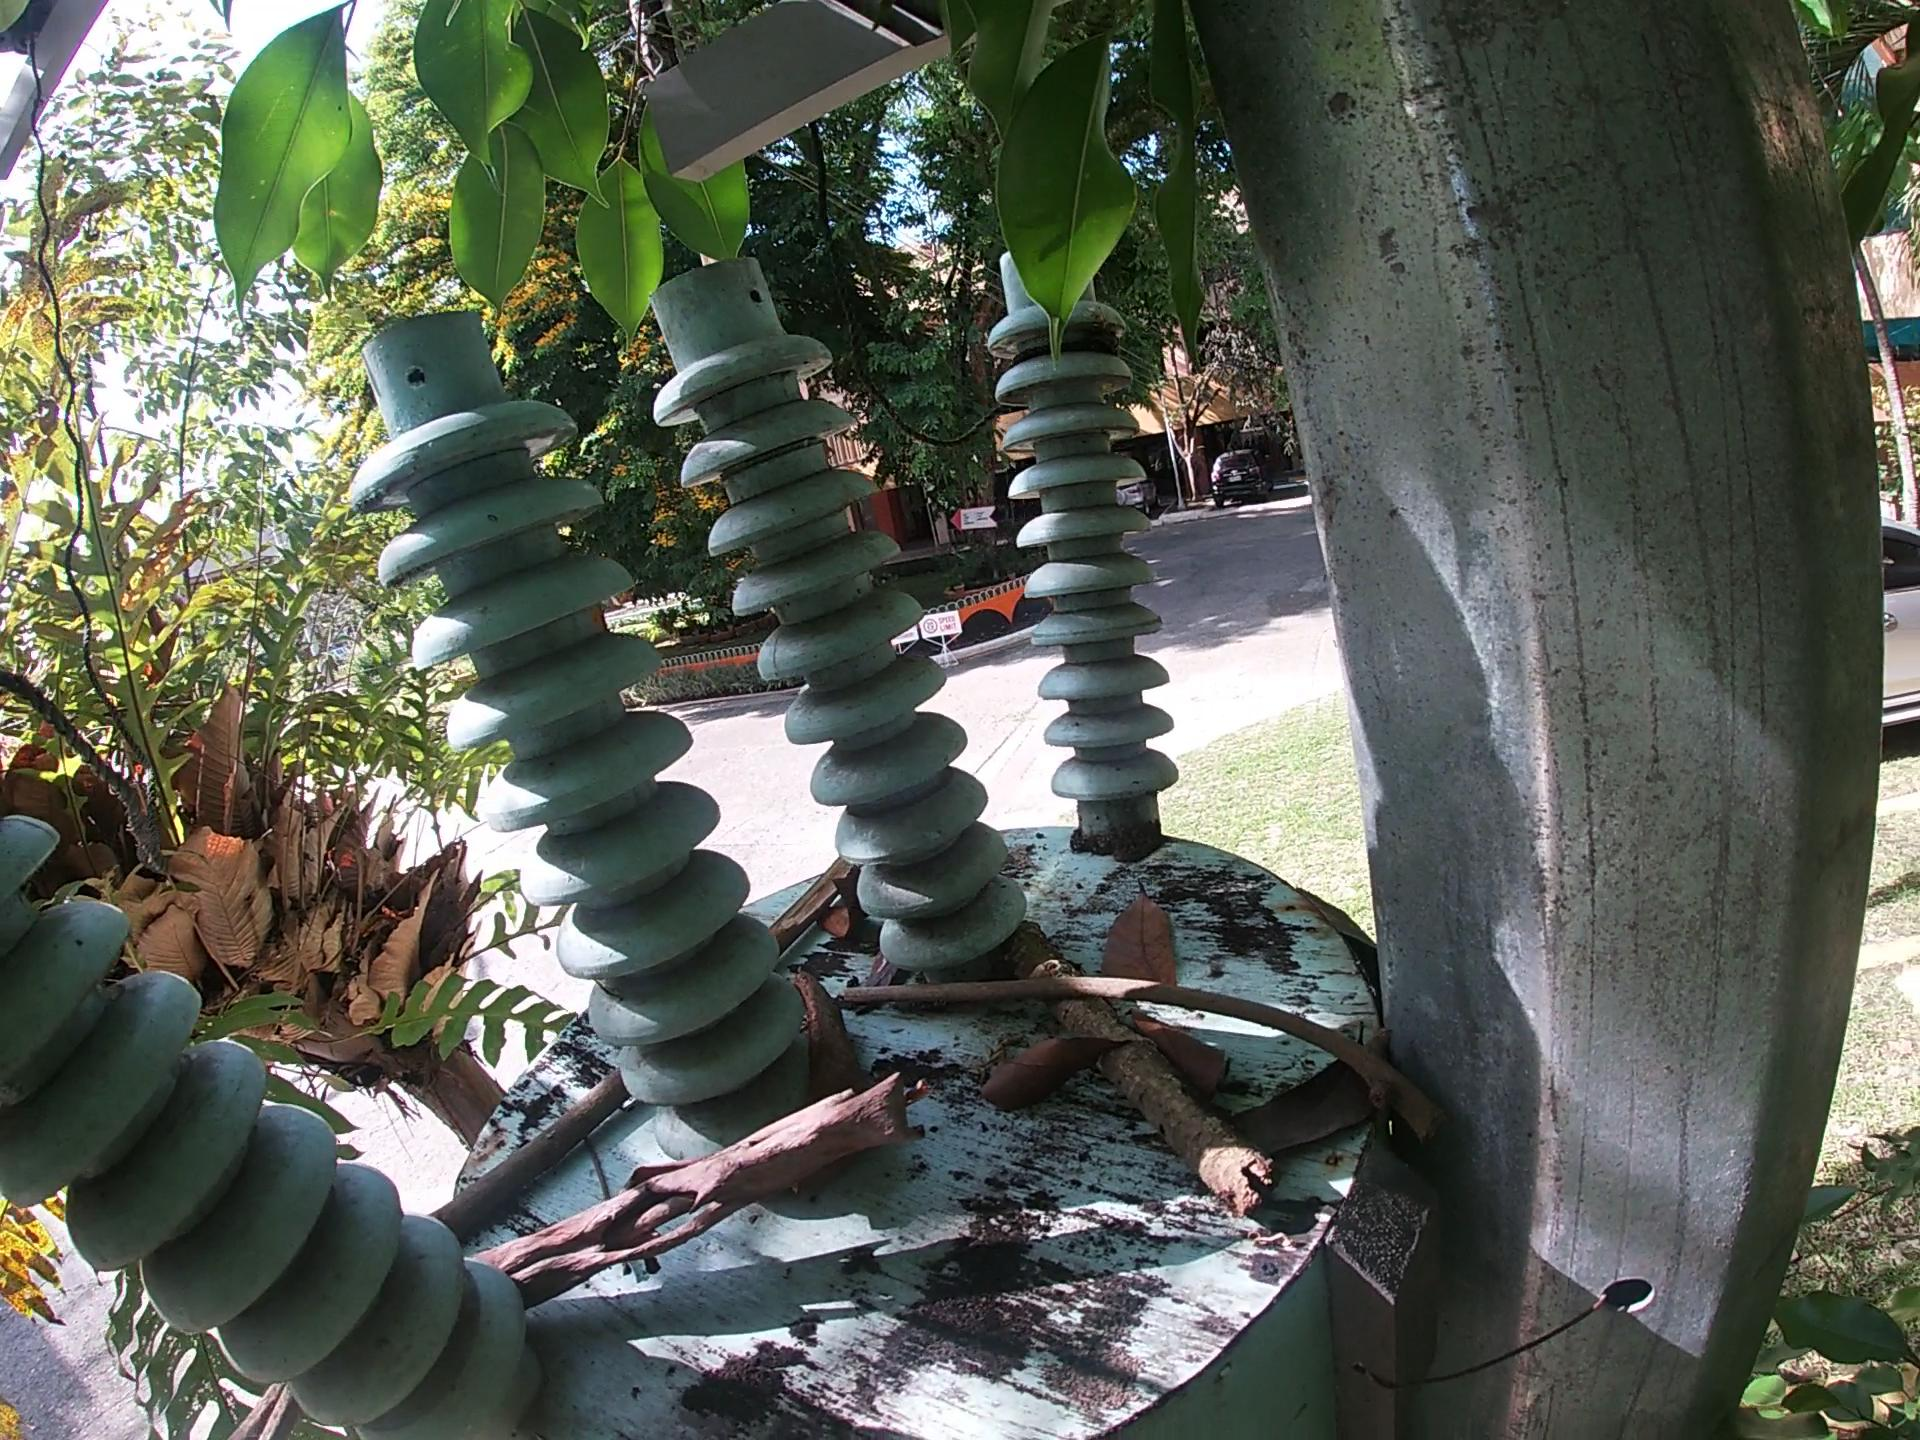leaf: (1223, 1018, 1383, 1162), (975, 1027, 1132, 1118), (1125, 1004, 1232, 1110), (1095, 874, 1191, 989)
mahogany fruit: (792, 962, 868, 1206), (818, 865, 874, 951)
tree branch: (463, 1065, 931, 1305), (845, 968, 1460, 1148), (1002, 920, 1274, 1218), (411, 1066, 649, 1243), (768, 856, 851, 950)
